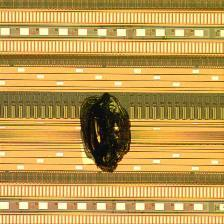PARTICLE: (79, 92, 134, 175)
